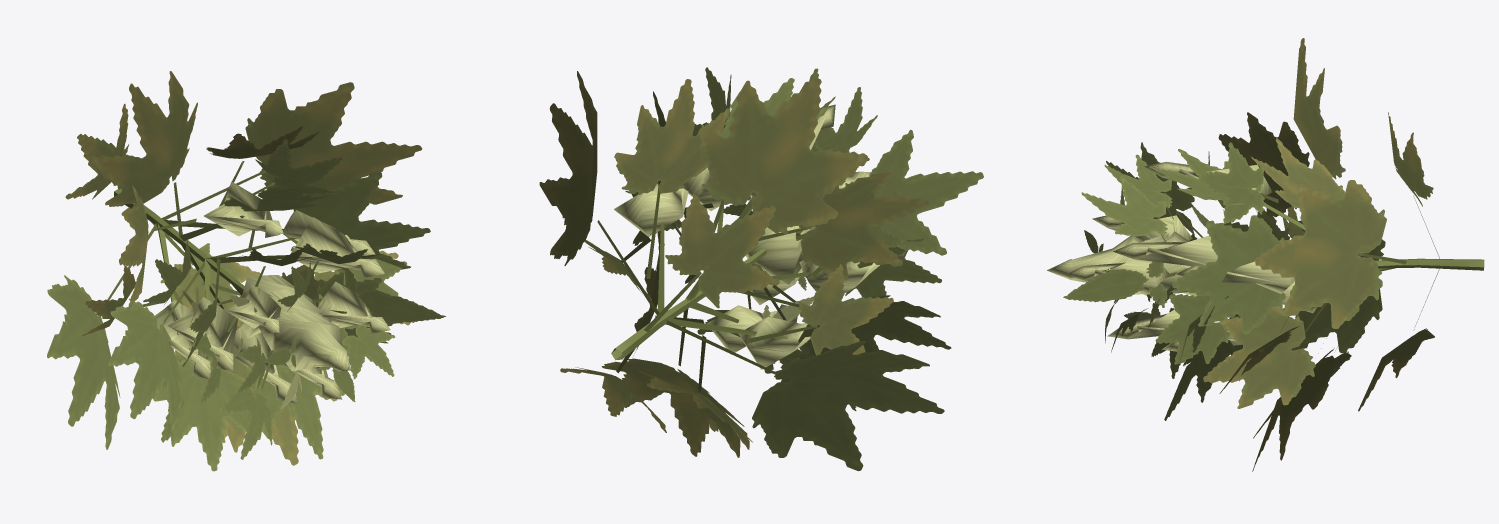
File: p_frosty_kush_ripe_c1_cards.obj
3 renders of one model, left to right at view 1: azimuth 30°, elevation 25°; view 2: azimuth 150°, elevation 25°; view 3: azimuth 270°, elevation 25°, orthographic. The views are drawn at different scales.
Size of the model in its own units: 1.52 by 1.51 by 1.35.
Materials: 1 (1 with a texture image).
